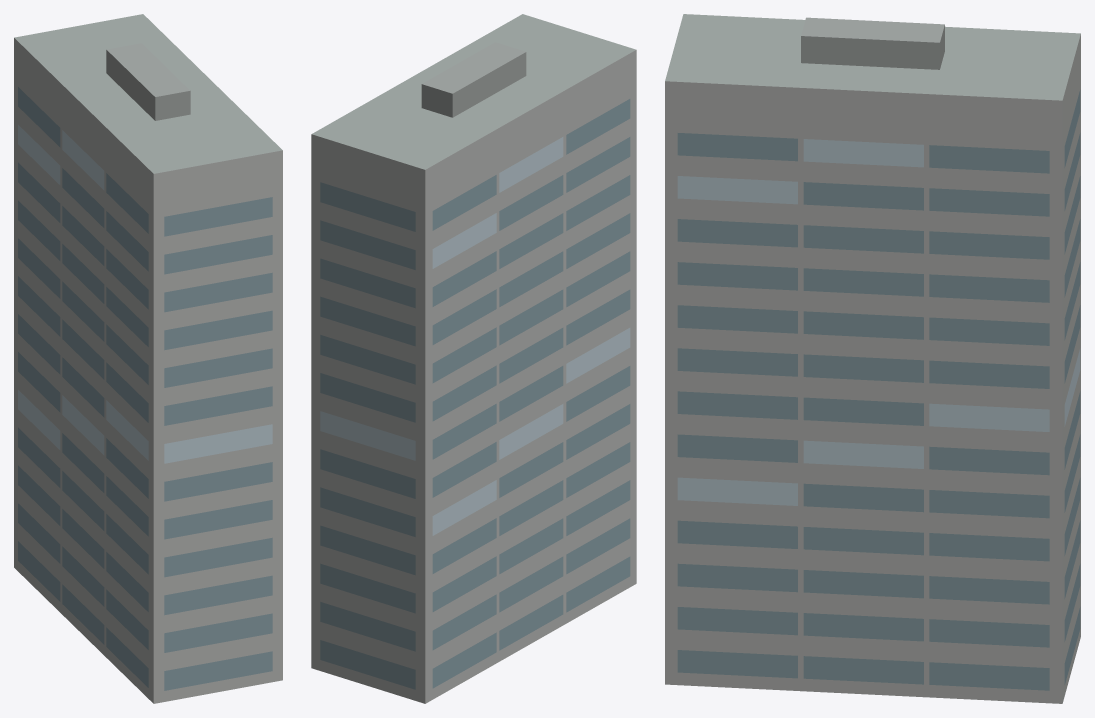
Rendered from fallback-olympic-athletes-village-320.glb.
The picture shows the model from 3 angles, left to right: view 1: azimuth 30°, elevation 25°; view 2: azimuth 150°, elevation 25°; view 3: azimuth 270°, elevation 25°; orthographic projection. The views are drawn at different scales.
Parts seen in each view (by area): view 1: fallback-olympic-athletes-village-320; view 2: fallback-olympic-athletes-village-320; view 3: fallback-olympic-athletes-village-320.
Part boxes in pixels (x1,y1,x2,y2): fallback-olympic-athletes-village-320: (14,14,282,703); fallback-olympic-athletes-village-320: (311,14,636,703); fallback-olympic-athletes-village-320: (665,14,1080,703).
Bounding box in the file's own units: 13.16 × 44.62 × 26.68.
